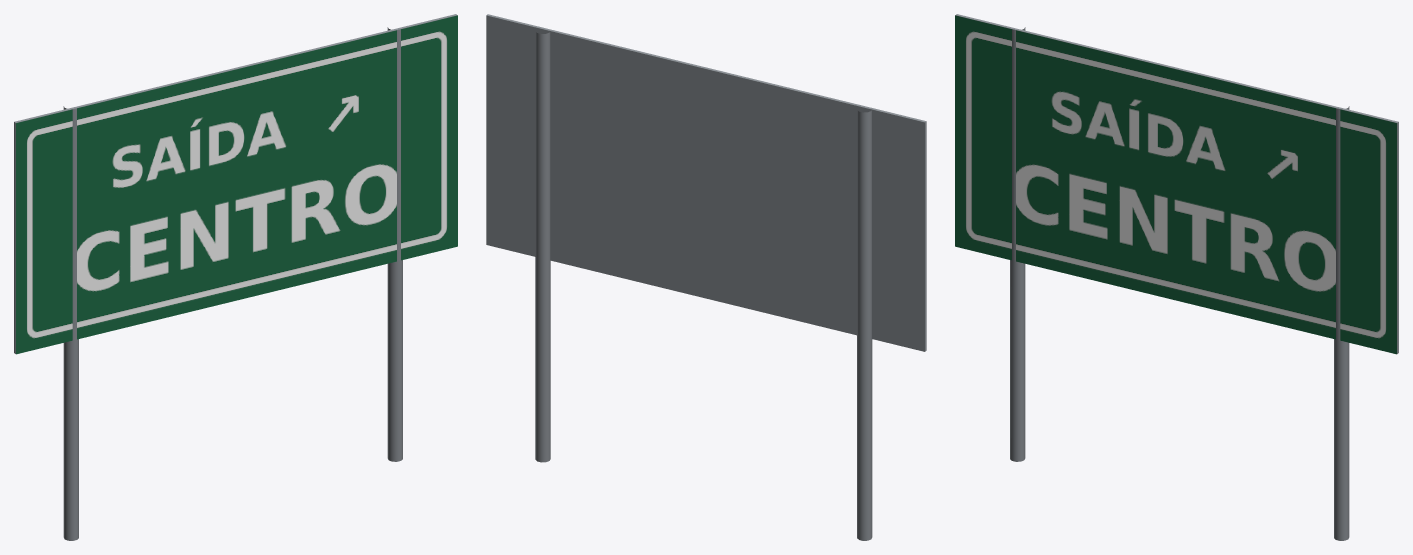
File: placa-rodovia-saida.glb
3 renders of one model, left to right at view 1: azimuth 30°, elevation 25°; view 2: azimuth 150°, elevation 25°; view 3: azimuth 330°, elevation 25°, orthographic.
Visible parts, largest first — view 1: Letreiro, Poste; view 2: Poste; view 3: Letreiro, Poste.
Part boxes in pixels (<box>): Letreiro: <box>16,15,457,354</box>; Poste: <box>14,14,457,540</box>; Poste: <box>486,14,926,540</box>; Letreiro: <box>955,15,1396,354</box>; Poste: <box>955,14,1398,540</box>.
Size of the model in its own units: 6 by 5.6 by 0.1712.
Materials: 3 (1 with a texture image).
